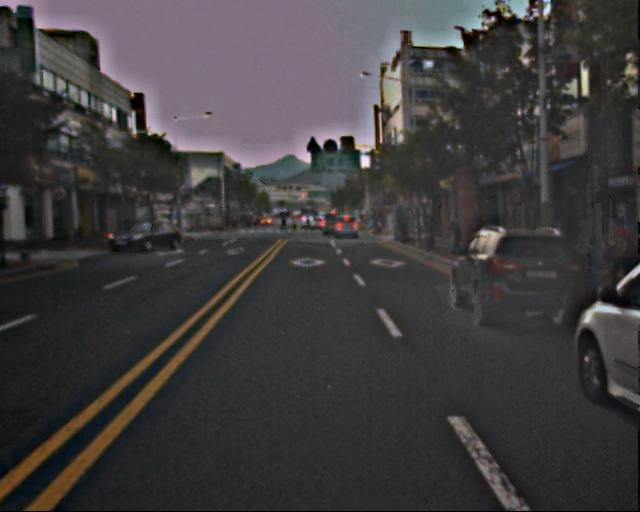person: (601, 215, 635, 299), (448, 214, 464, 254)
